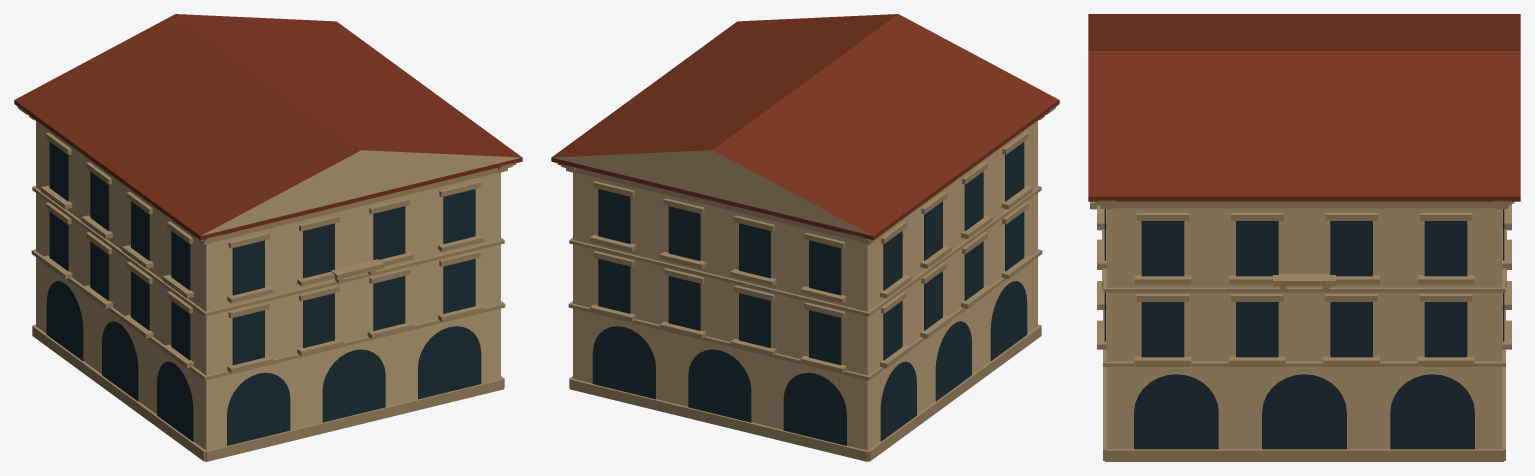
The model's file is distant-pitched.glb.
The picture shows the model from 3 angles, left to right: view 1: azimuth 30°, elevation 25°; view 2: azimuth 150°, elevation 25°; view 3: azimuth 270°, elevation 25°; orthographic projection. The views are drawn at different scales.
Visible parts, largest first — view 1: Barrel terracotta, Lime plaster, Deep blue glazing, Honey limestone; view 2: Barrel terracotta, Lime plaster, Deep blue glazing, Honey limestone; view 3: Barrel terracotta, Lime plaster, Deep blue glazing, Honey limestone.
Boxes of the visible parts, x1,y1,x2,y2 form: Barrel terracotta: (14,14,522,240); Lime plaster: (36,121,521,450); Deep blue glazing: (46,142,481,445); Honey limestone: (18,106,516,461); Barrel terracotta: (551,14,1059,240); Lime plaster: (552,121,1037,450); Deep blue glazing: (592,142,1027,445); Honey limestone: (557,106,1055,461); Barrel terracotta: (1088,14,1520,201); Lime plaster: (1106,208,1502,448); Deep blue glazing: (1104,209,1504,449); Honey limestone: (1090,200,1514,461).
Bounding box in the file's own units: 13 × 10.8 × 13.
